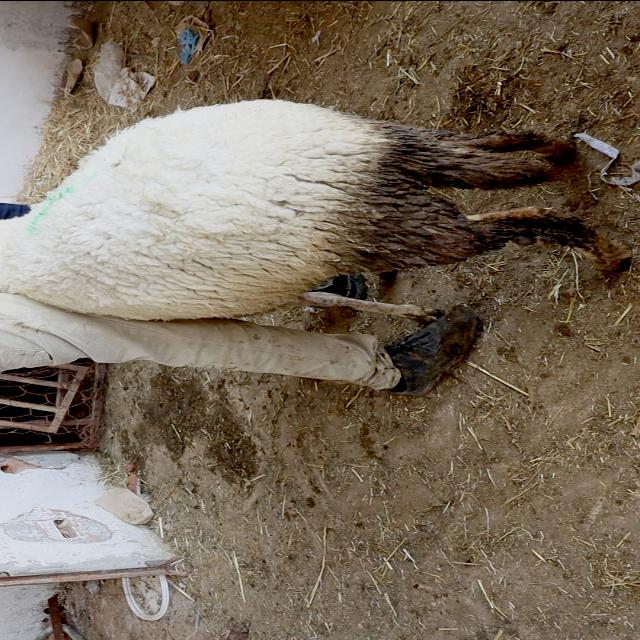Score_5: (0, 99, 631, 322)
